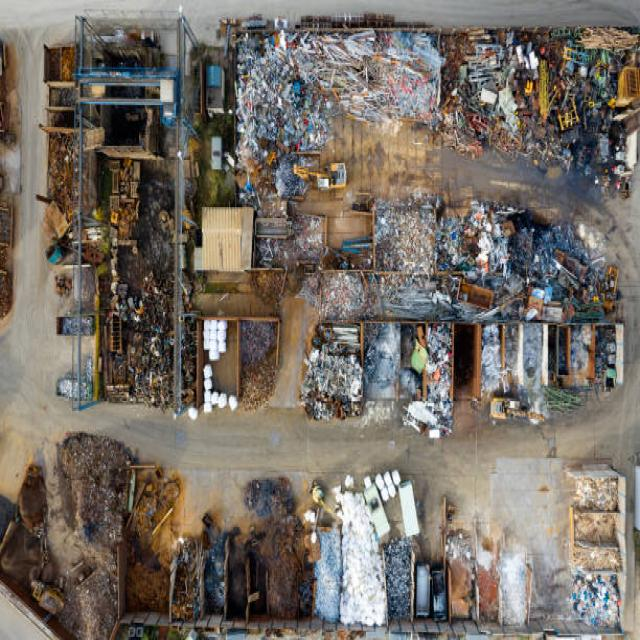plastic: (237, 42, 427, 144)
